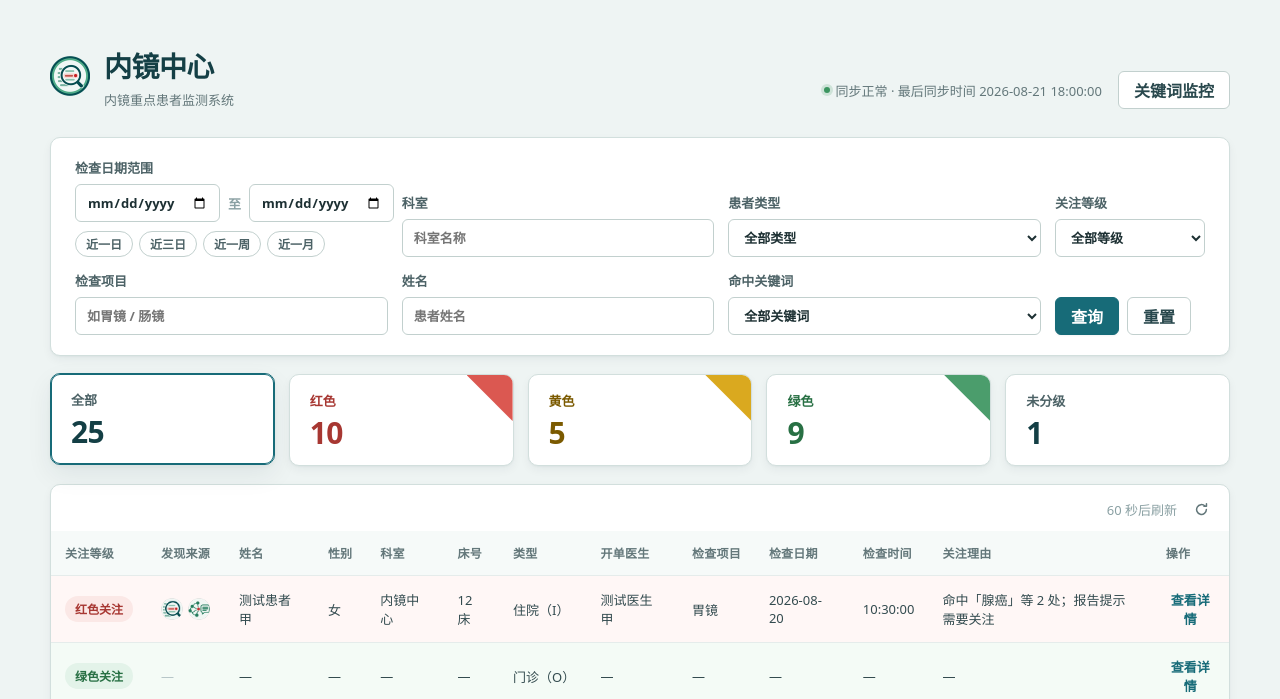
it: Workbench › rejects a date range with only one bound set
Expected: the text "测试患者甲" is shown, [225, 576, 314, 642]
Type "2026-08-01" into the date field named "开始日期" at coordinates (148, 203), box [75, 184, 220, 222]
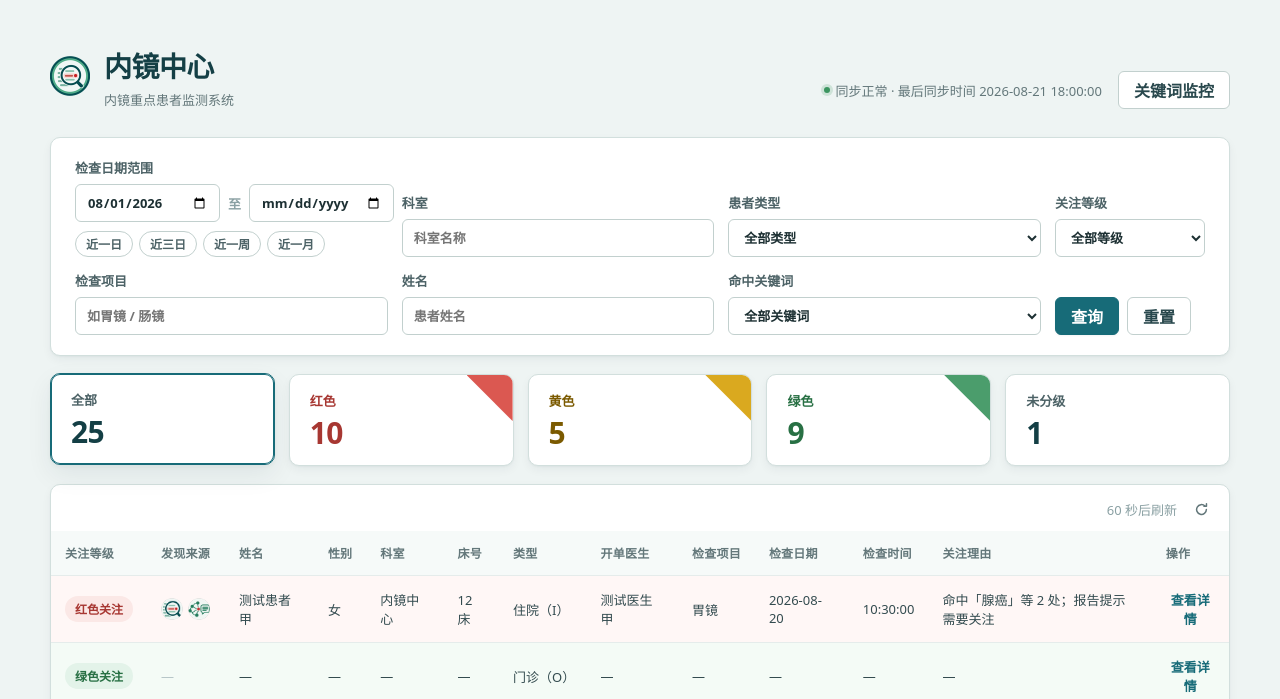
Click the button "查询" at coordinates (1087, 316), box [1055, 297, 1119, 335]
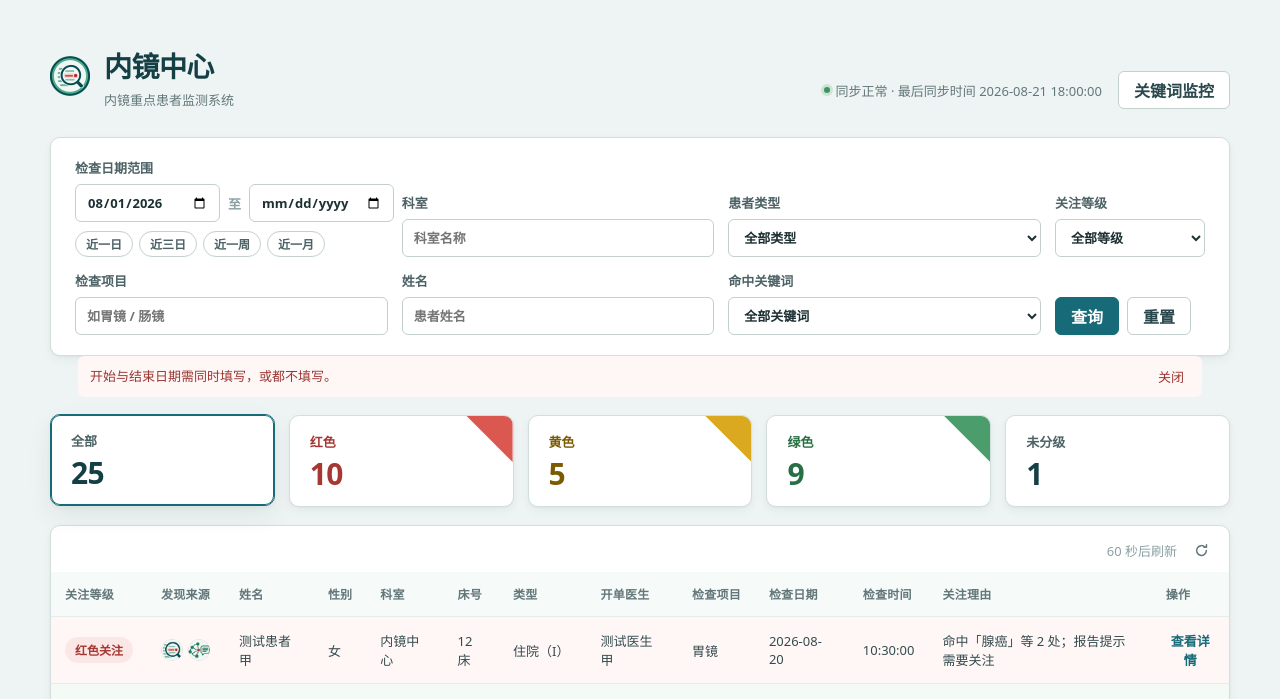
Now the message shows "开始与结束日期需同时填写，或都不填写。", box [90, 367, 337, 385]
